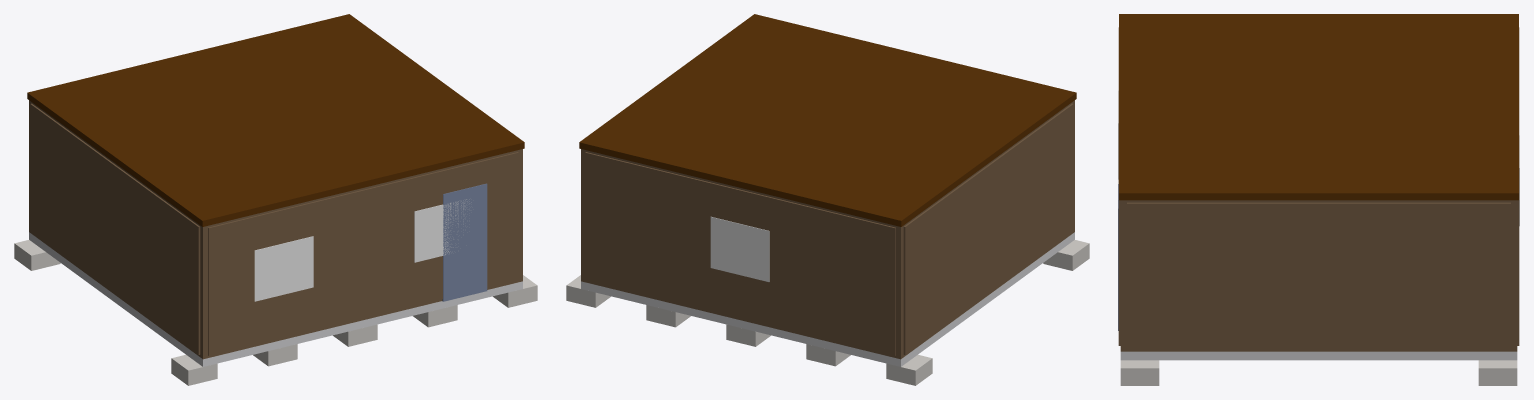
Rendered from Studio-20-Base-WengeWood-LOD1.glb.
The picture shows the model from 3 angles, left to right: view 1: azimuth 30°, elevation 25°; view 2: azimuth 150°, elevation 25°; view 3: azimuth 270°, elevation 25°; orthographic projection. The views are drawn at different scales.
Parts seen in each view (by area): view 1: RoofMain, ExteriorPanelsStandard, WindowsStandard, EntryDoor, FoundationBlocks, BaseFrame, ExteriorShell; view 2: ExteriorPanelsStandard, RoofMain, FoundationBlocks, BaseFrame, ExteriorShell, WindowsStandard; view 3: RoofMain, ExteriorPanelsStandard, ExteriorShell, BaseFrame, FoundationBlocks.
Part boxes in pixels (bbox=[...]): RoofMain: bbox=[27, 14, 524, 226]; ExteriorPanelsStandard: bbox=[30, 103, 518, 355]; WindowsStandard: bbox=[254, 199, 471, 301]; EntryDoor: bbox=[442, 183, 487, 301]; FoundationBlocks: bbox=[14, 240, 537, 385]; BaseFrame: bbox=[29, 232, 522, 366]; ExteriorShell: bbox=[29, 100, 522, 359]; ExteriorPanelsStandard: bbox=[585, 103, 1073, 355]; RoofMain: bbox=[579, 14, 1076, 226]; FoundationBlocks: bbox=[566, 240, 1089, 385]; BaseFrame: bbox=[581, 232, 1074, 366]; ExteriorShell: bbox=[581, 100, 1074, 359]; WindowsStandard: bbox=[710, 216, 769, 281]; RoofMain: bbox=[1119, 14, 1518, 200]; ExteriorPanelsStandard: bbox=[1118, 27, 1519, 349]; ExteriorShell: bbox=[1120, 200, 1517, 351]; BaseFrame: bbox=[1120, 351, 1517, 360]; FoundationBlocks: bbox=[1120, 360, 1517, 385].
Bounding box in the file's own units: 7.14 × 3.17 × 6.24.
